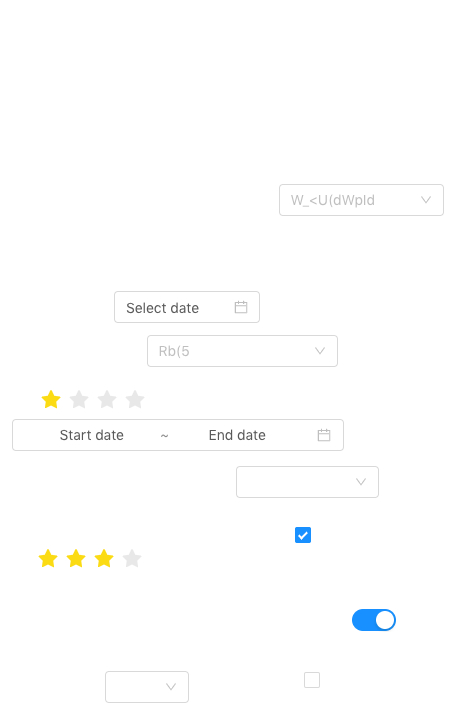Checkbox: (304, 669, 320, 690), (295, 524, 311, 545)
DatePicker: (114, 291, 260, 323)
RangePicker: (12, 419, 374, 451)
Rate: (41, 383, 161, 415), (38, 542, 158, 574)
Select: (147, 335, 338, 367), (279, 184, 444, 216), (236, 466, 379, 498), (105, 671, 189, 703)
Switch: (352, 608, 396, 632)
